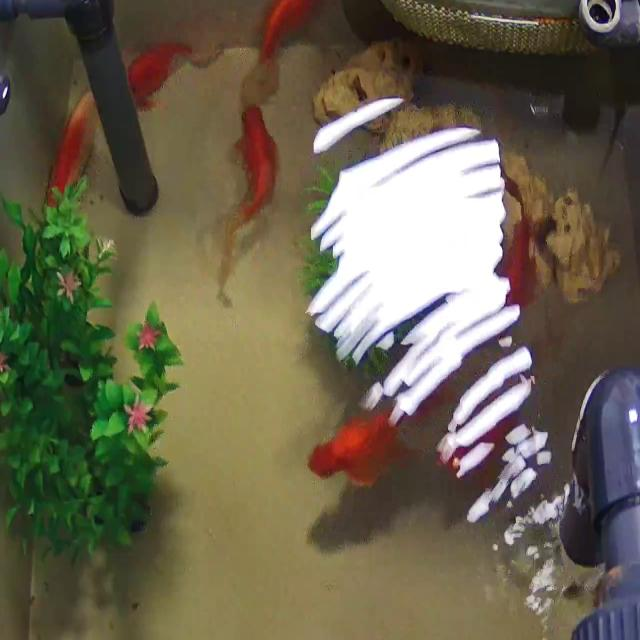fish: (312, 411, 394, 487), (230, 101, 278, 230), (46, 88, 98, 207), (447, 399, 531, 470), (496, 189, 538, 313), (258, 0, 333, 67), (125, 40, 196, 110)
